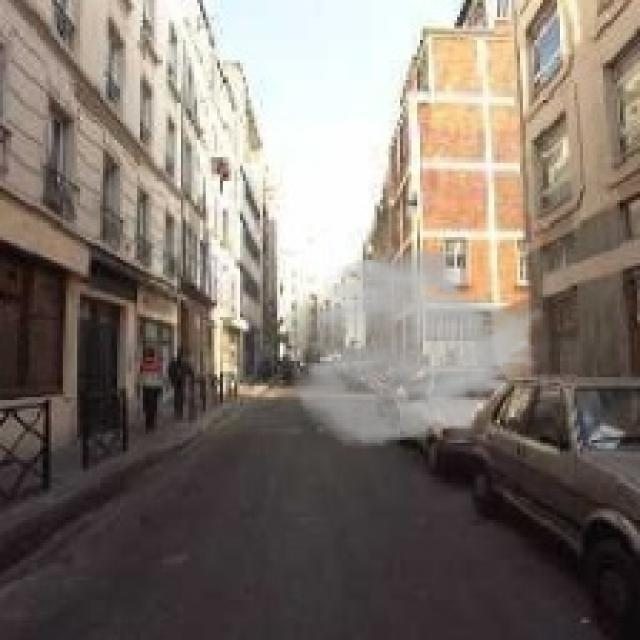Smoke: (292, 243, 548, 448)
